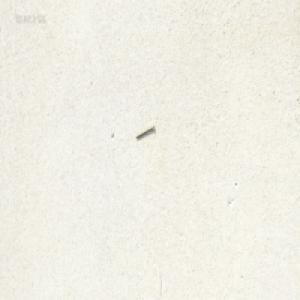Bolt: (135, 123, 154, 139)
